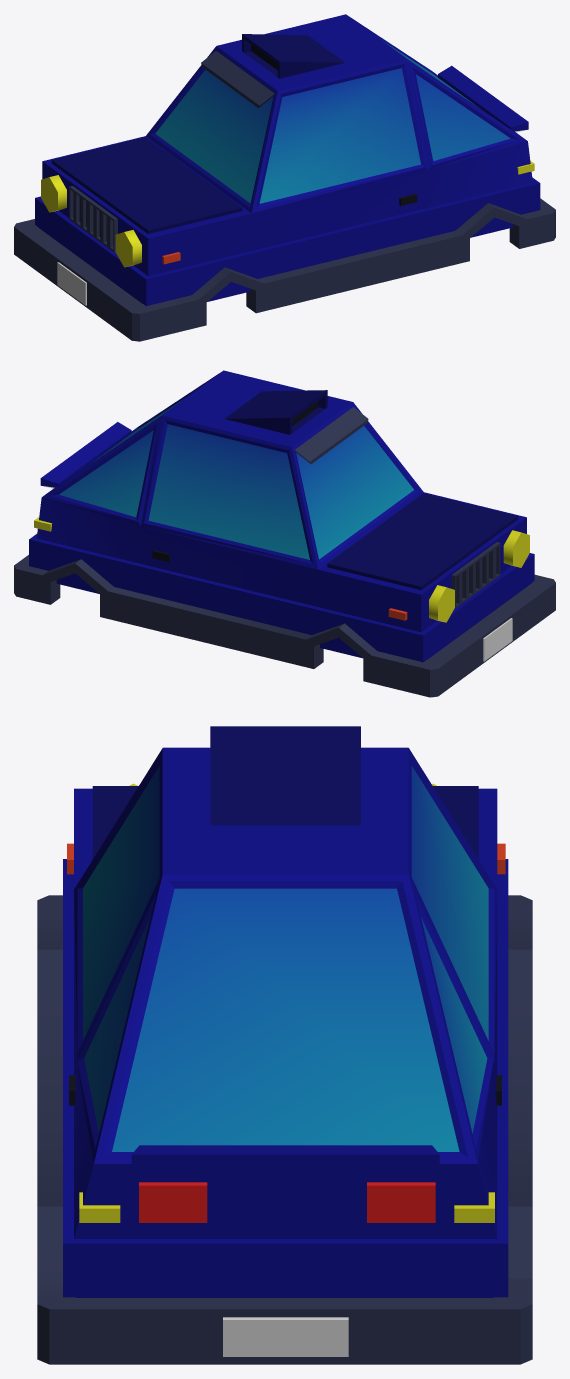
The model's file is Car2.FBX.
The picture shows the model from 3 angles, top to bottom: view 1: azimuth 30°, elevation 25°; view 2: azimuth 150°, elevation 25°; view 3: azimuth 270°, elevation 25°; orthographic projection. The views are drawn at different scales.
Visible parts, largest first — view 1: car2; view 2: car2; view 3: car2.
Boxes of the visible parts, box(x1,y1,x2,y2) form: car2: box(14, 14, 555, 341); car2: box(14, 370, 555, 697); car2: box(37, 726, 532, 1364).
Bounding box in the file's own units: 65.94 × 29.99 × 33.
